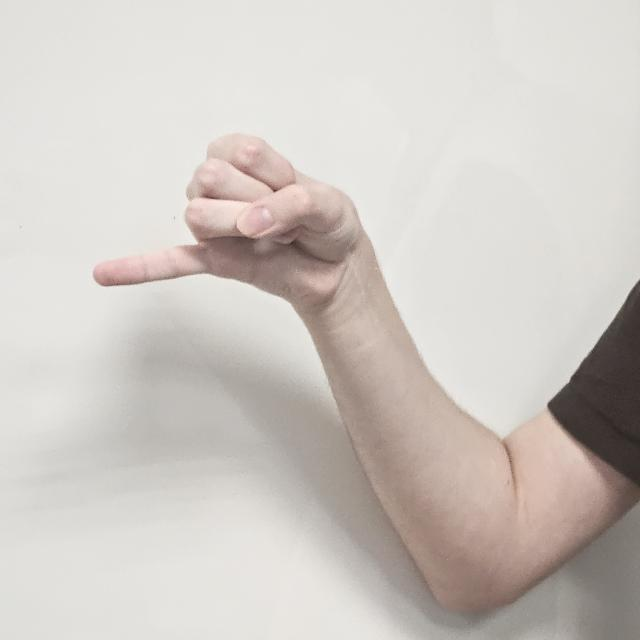Esquerda: (90, 130, 370, 352)
